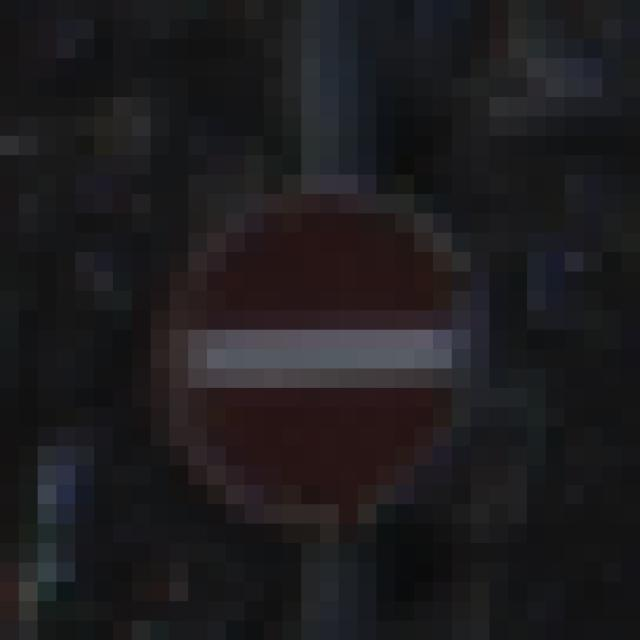No Entry: (114, 117, 547, 544)
